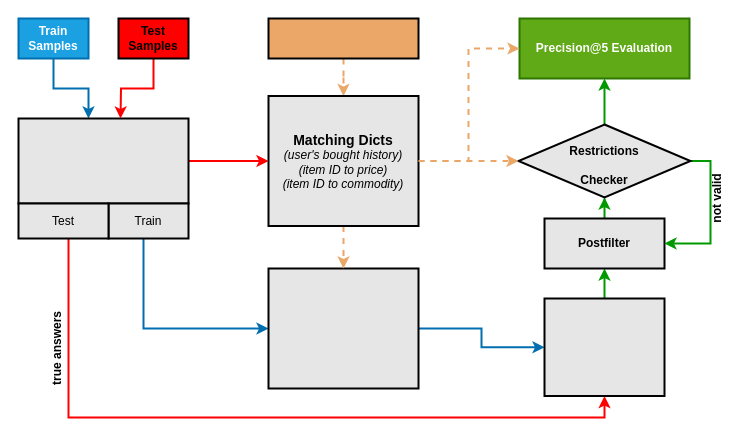
The diagram is 745 pixels wide and 443 high, and some of its shapes have lost their labels. The shapes that lost their labels are listed below. From the top down, each one's box as (x1, y1, x2, y2) in pixels, then its label:
(267, 17, 419, 59): Features (Item/User)
(17, 117, 189, 204): Prefilter
(267, 267, 419, 389): Implicit Recommender (own / popular / als)
(543, 297, 665, 396): Result Matrix
